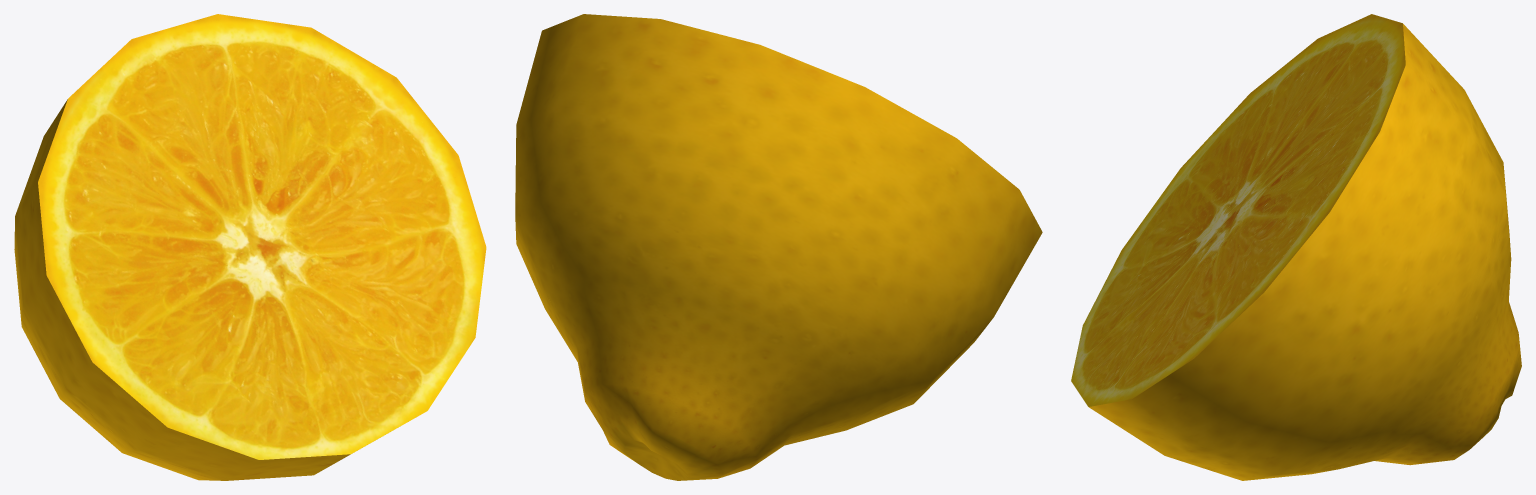
The model's file is LemonHalfEnd.fbx.
The picture shows the model from 3 angles, left to right: view 1: azimuth 30°, elevation 25°; view 2: azimuth 150°, elevation 25°; view 3: azimuth 270°, elevation 25°; orthographic projection. The views are drawn at different scales.
Parts seen in each view (by area): view 1: Default_Layer; view 2: Default_Layer; view 3: Default_Layer.
Part boxes in pixels (bbox=[...]): Default_Layer: bbox=[14, 14, 486, 480]; Default_Layer: bbox=[515, 14, 1042, 480]; Default_Layer: bbox=[1071, 14, 1521, 480].
Size of the model in its own units: 16.5 by 14.76 by 14.75.
